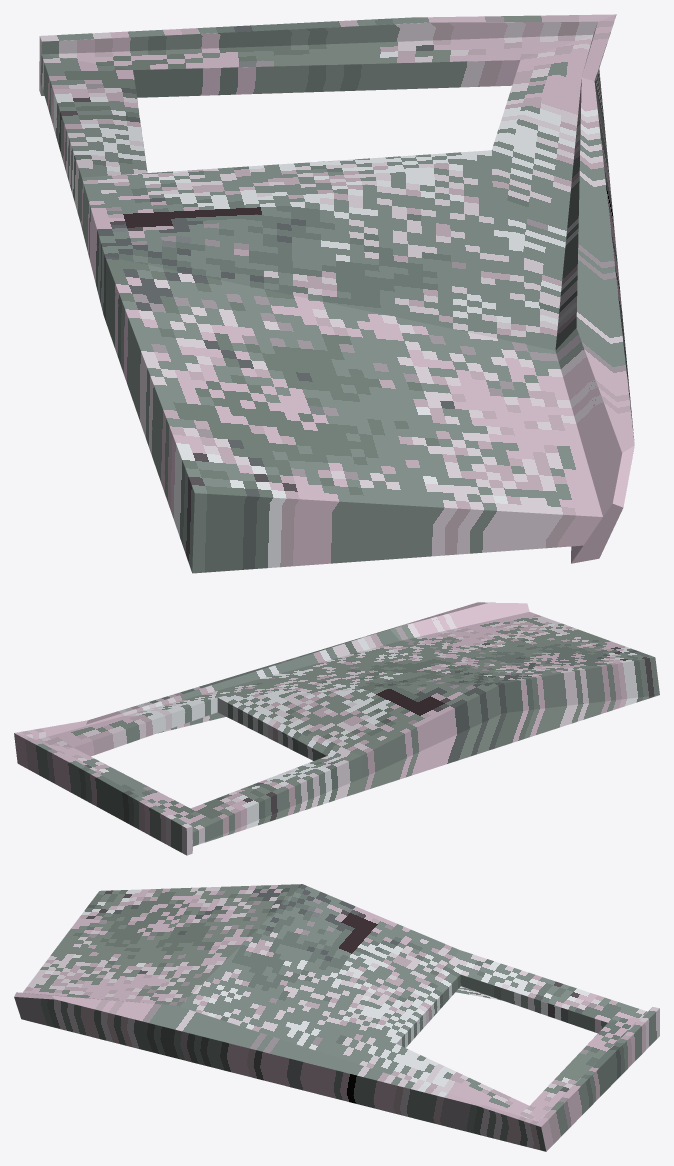
File: CafeteriaBrokenDoor2.fbx
3 views of the same model, one above another, from view 1: azimuth 30°, elevation 25°; view 2: azimuth 150°, elevation 25°; view 3: azimuth 270°, elevation 25° (orthographic). The views are drawn at different scales.
Visible parts, largest first — view 1: Plane.025; view 2: Plane.025; view 3: Plane.025.
Part boxes in pixels (x1,y1,x2,y2): Plane.025: (39,14,634,573); Plane.025: (14,602,659,855); Plane.025: (14,884,659,1151).
Bounding box in the file's own units: 417 × 76.47 × 530.
1 material, 1 textured.
